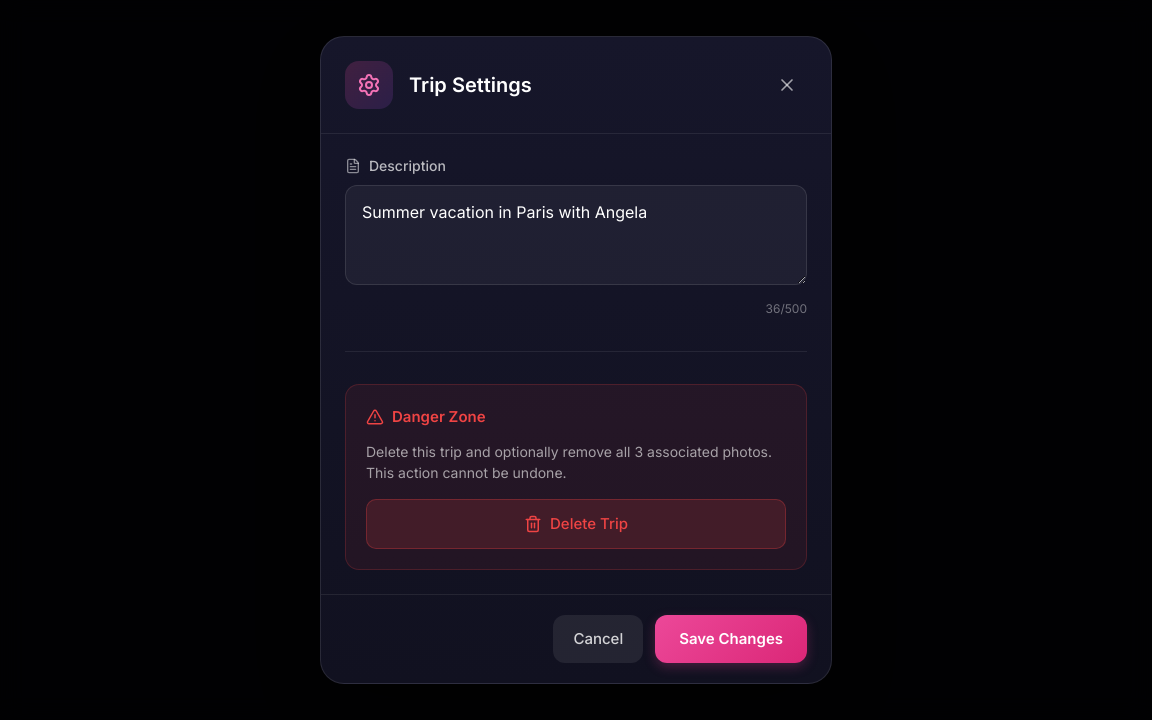
Scenario: TripSettingsModal › should show confirmation dialog when clicking delete
(page scrolled)
Click the button "Delete Trip" at [576, 524], box top-left (366, 498), bottom-right (786, 548)
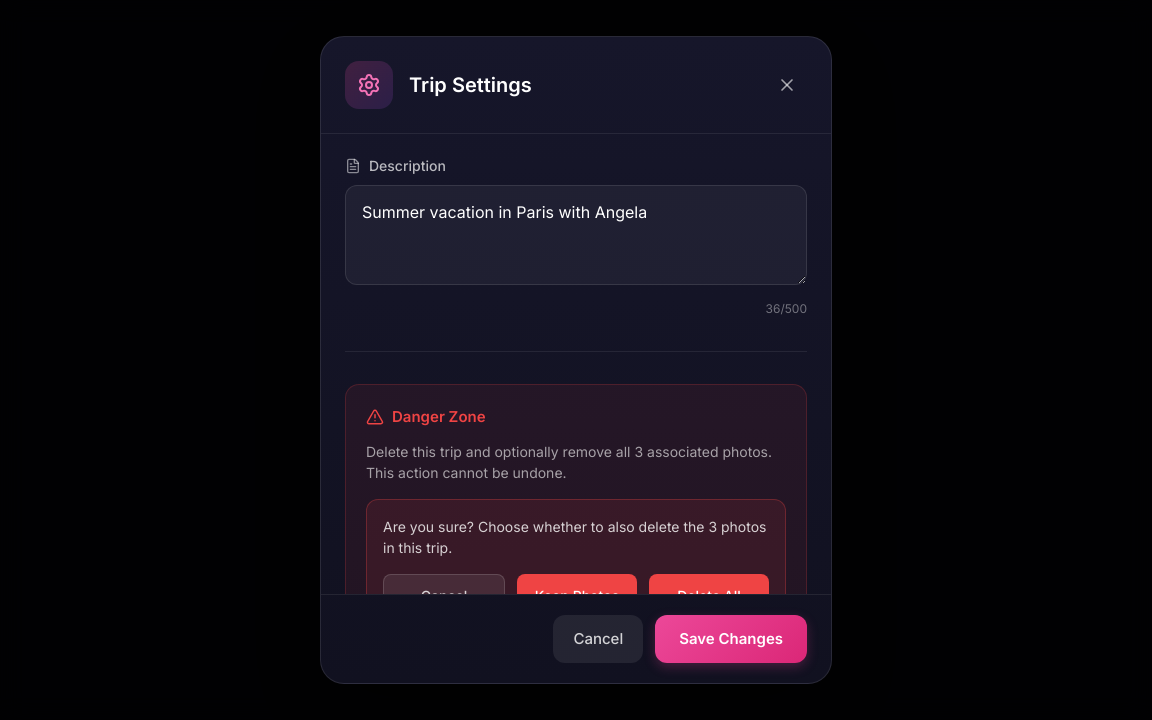
Now the text "Are you sure?" is shown, box top-left (383, 518), bottom-right (708, 534)
